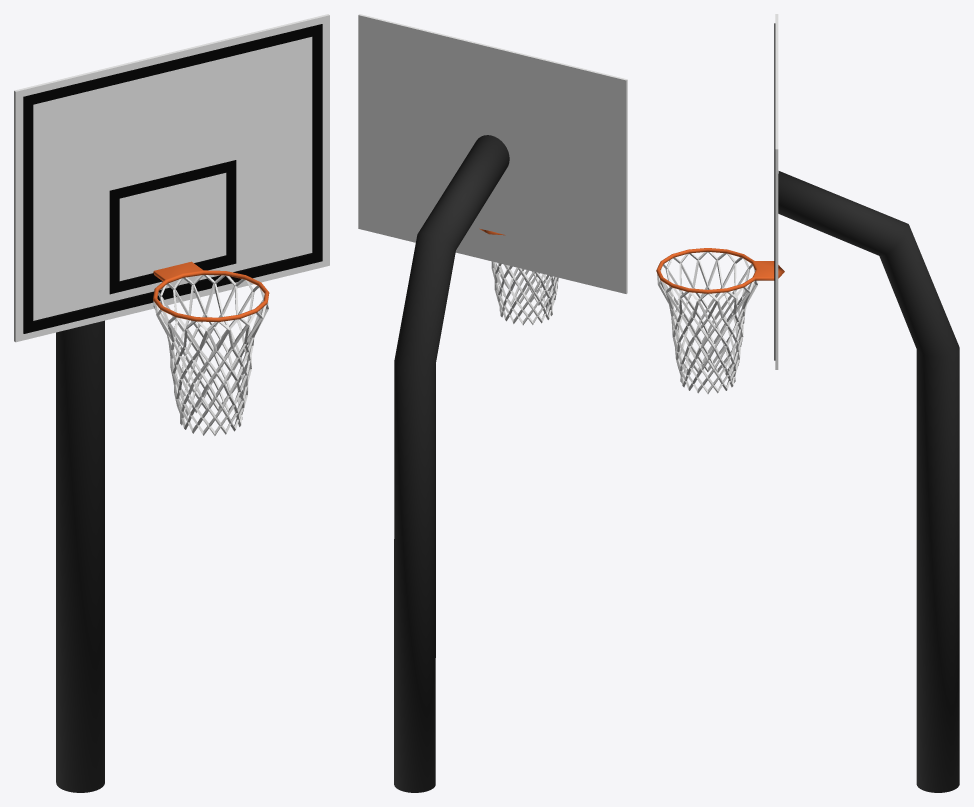
File: kosz_do_kosza.fbx
The picture shows the model from 3 angles, left to right: view 1: azimuth 30°, elevation 25°; view 2: azimuth 150°, elevation 25°; view 3: azimuth 270°, elevation 25°; orthographic projection. The views are drawn at different scales.
Parts seen in each view (by area): view 1: Cylinder.001; view 2: Cylinder.001; view 3: Cylinder.001.
Boxes of the visible parts, box(x1,y1,x2,y2) form: Cylinder.001: box(14, 14, 329, 792); Cylinder.001: box(358, 14, 627, 792); Cylinder.001: box(656, 14, 959, 792).
Size of the model in its own units: 1482 by 3590 by 1406.
